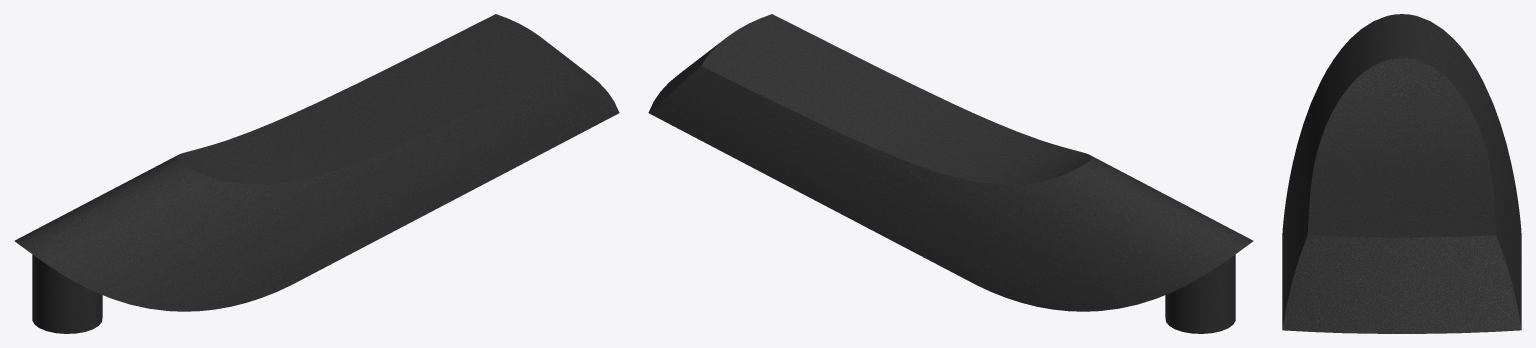
File: Viatana.glb
3 views of the same model, side by side, from view 1: azimuth 30°, elevation 25°; view 2: azimuth 150°, elevation 25°; view 3: azimuth 270°, elevation 25° (orthographic). The views are drawn at different scales.
Visible parts, largest first — view 1: Trilux Viatana; view 2: Trilux Viatana; view 3: Trilux Viatana.
Boxes of the visible parts, box(x1,y1,x2,y2) form: Trilux Viatana: box(14, 14, 619, 333); Trilux Viatana: box(648, 14, 1253, 333); Trilux Viatana: box(1282, 14, 1521, 333).
Size of the model in its own units: 0.8329 by 0.2362 by 0.2299.
3 materials, 2 textured.
